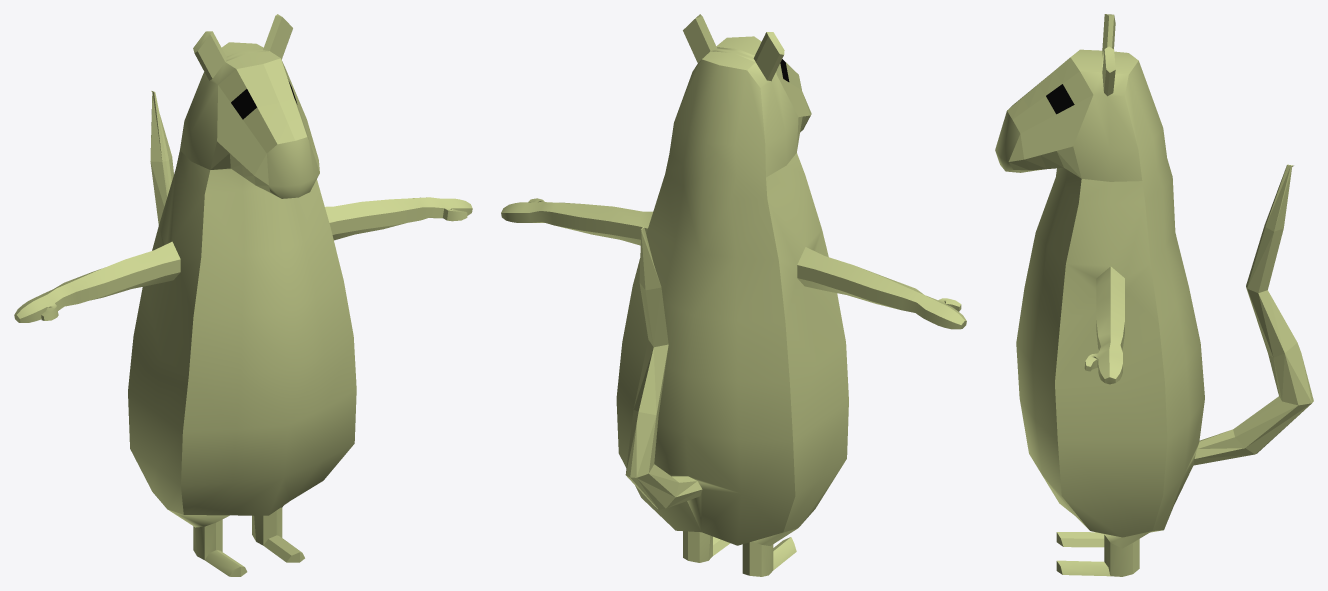
File: rata_normal.fbx
3 views of the same model, side by side, from view 1: azimuth 30°, elevation 25°; view 2: azimuth 150°, elevation 25°; view 3: azimuth 270°, elevation 25° (orthographic).
Parts seen in each view (by area): view 1: Box001; view 2: Box001; view 3: Box001.
Part boxes in pixels (x1=…): Box001: x1=14, y1=14, x2=472, y2=576; Box001: x1=501, y1=14, x2=966, y2=576; Box001: x1=995, y1=14, x2=1313, y2=576.
Bounding box in the file's own units: 1.09 × 1.22 × 0.6674.
